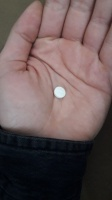Arveles: (53, 85, 67, 100)
